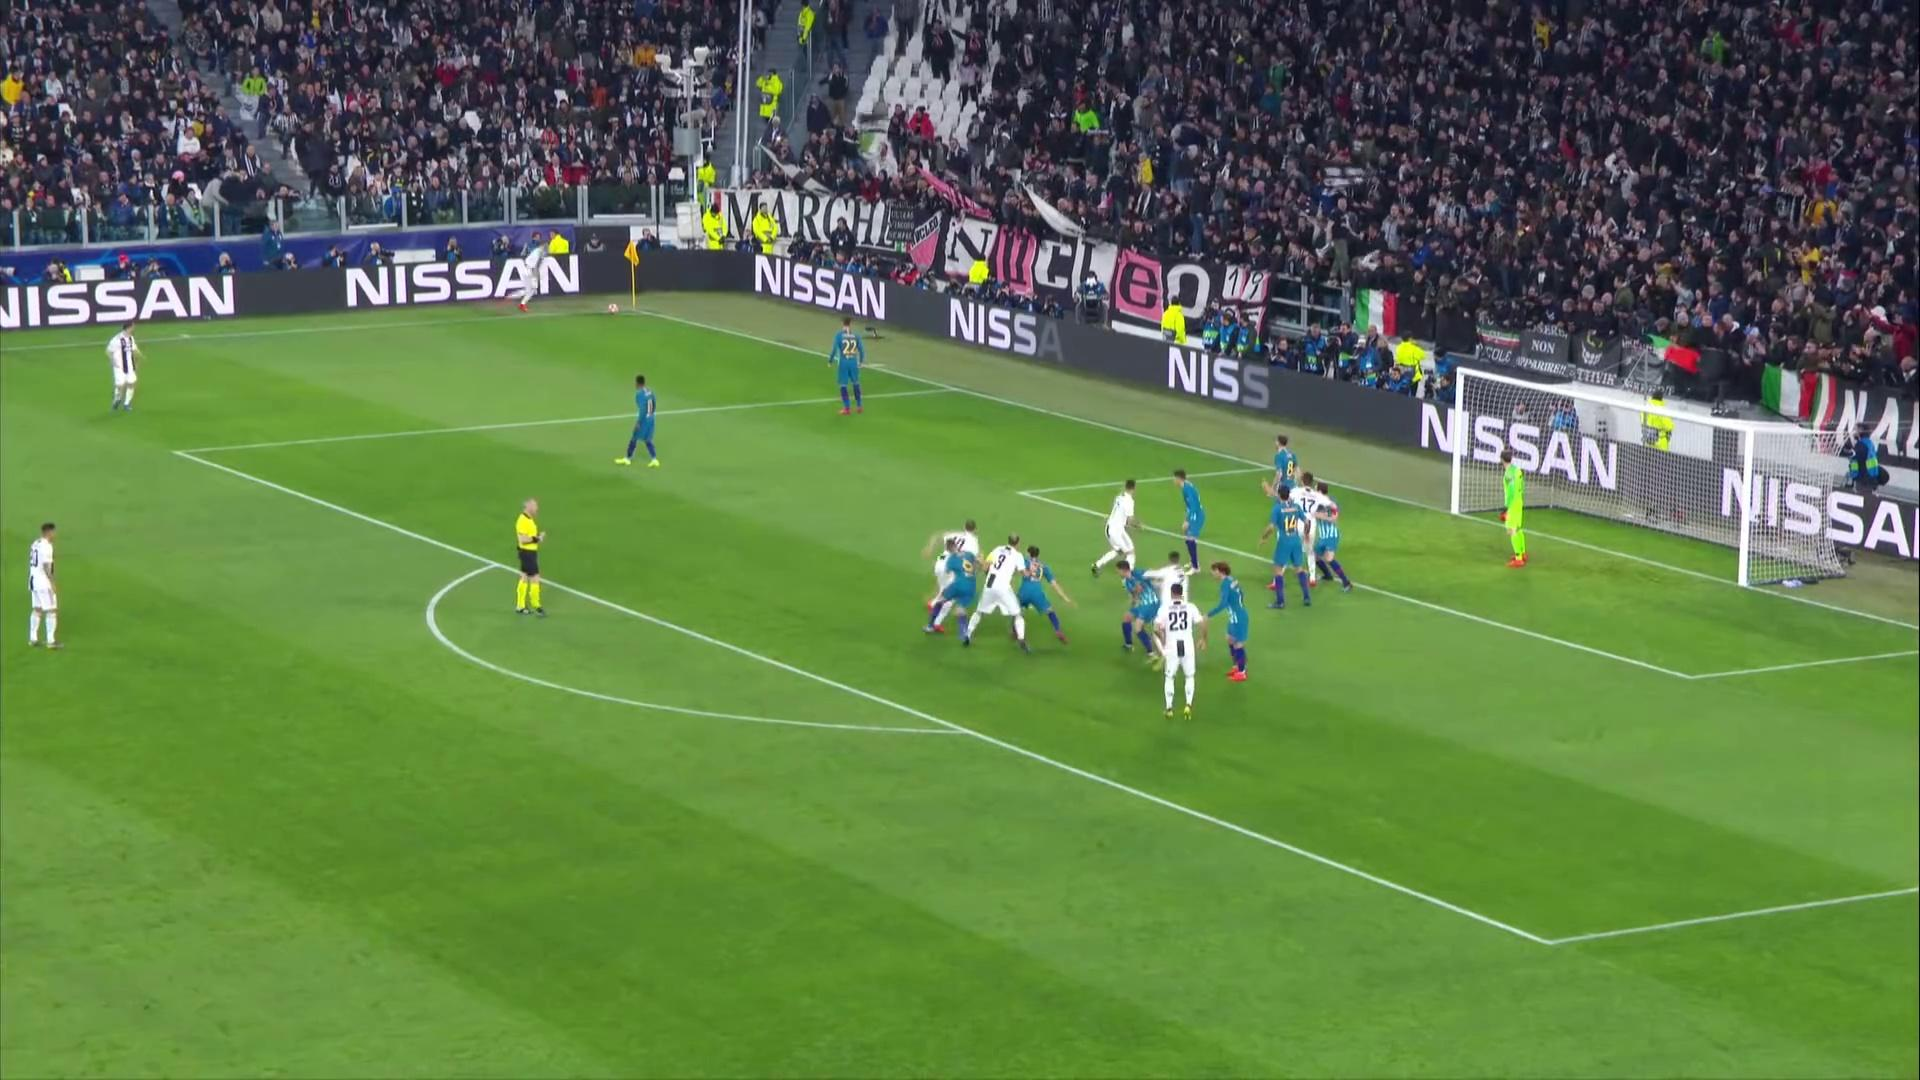ball: (607, 302, 620, 315)
